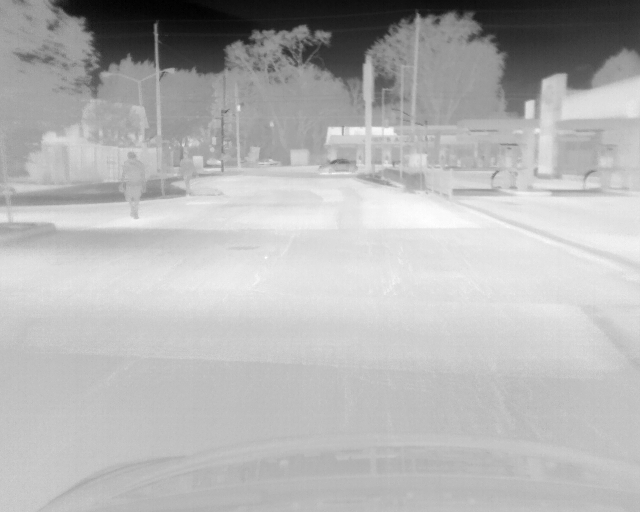car: (318, 158, 359, 176), (257, 157, 282, 169)
people: (119, 150, 146, 218), (176, 148, 195, 200)
